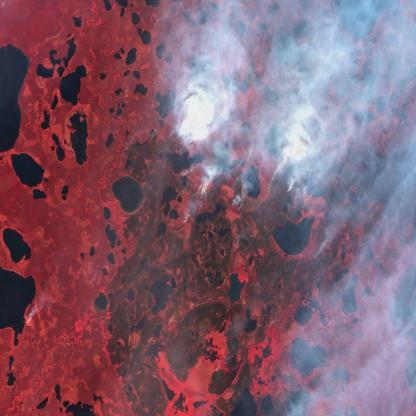fire: (118, 113, 325, 274)
